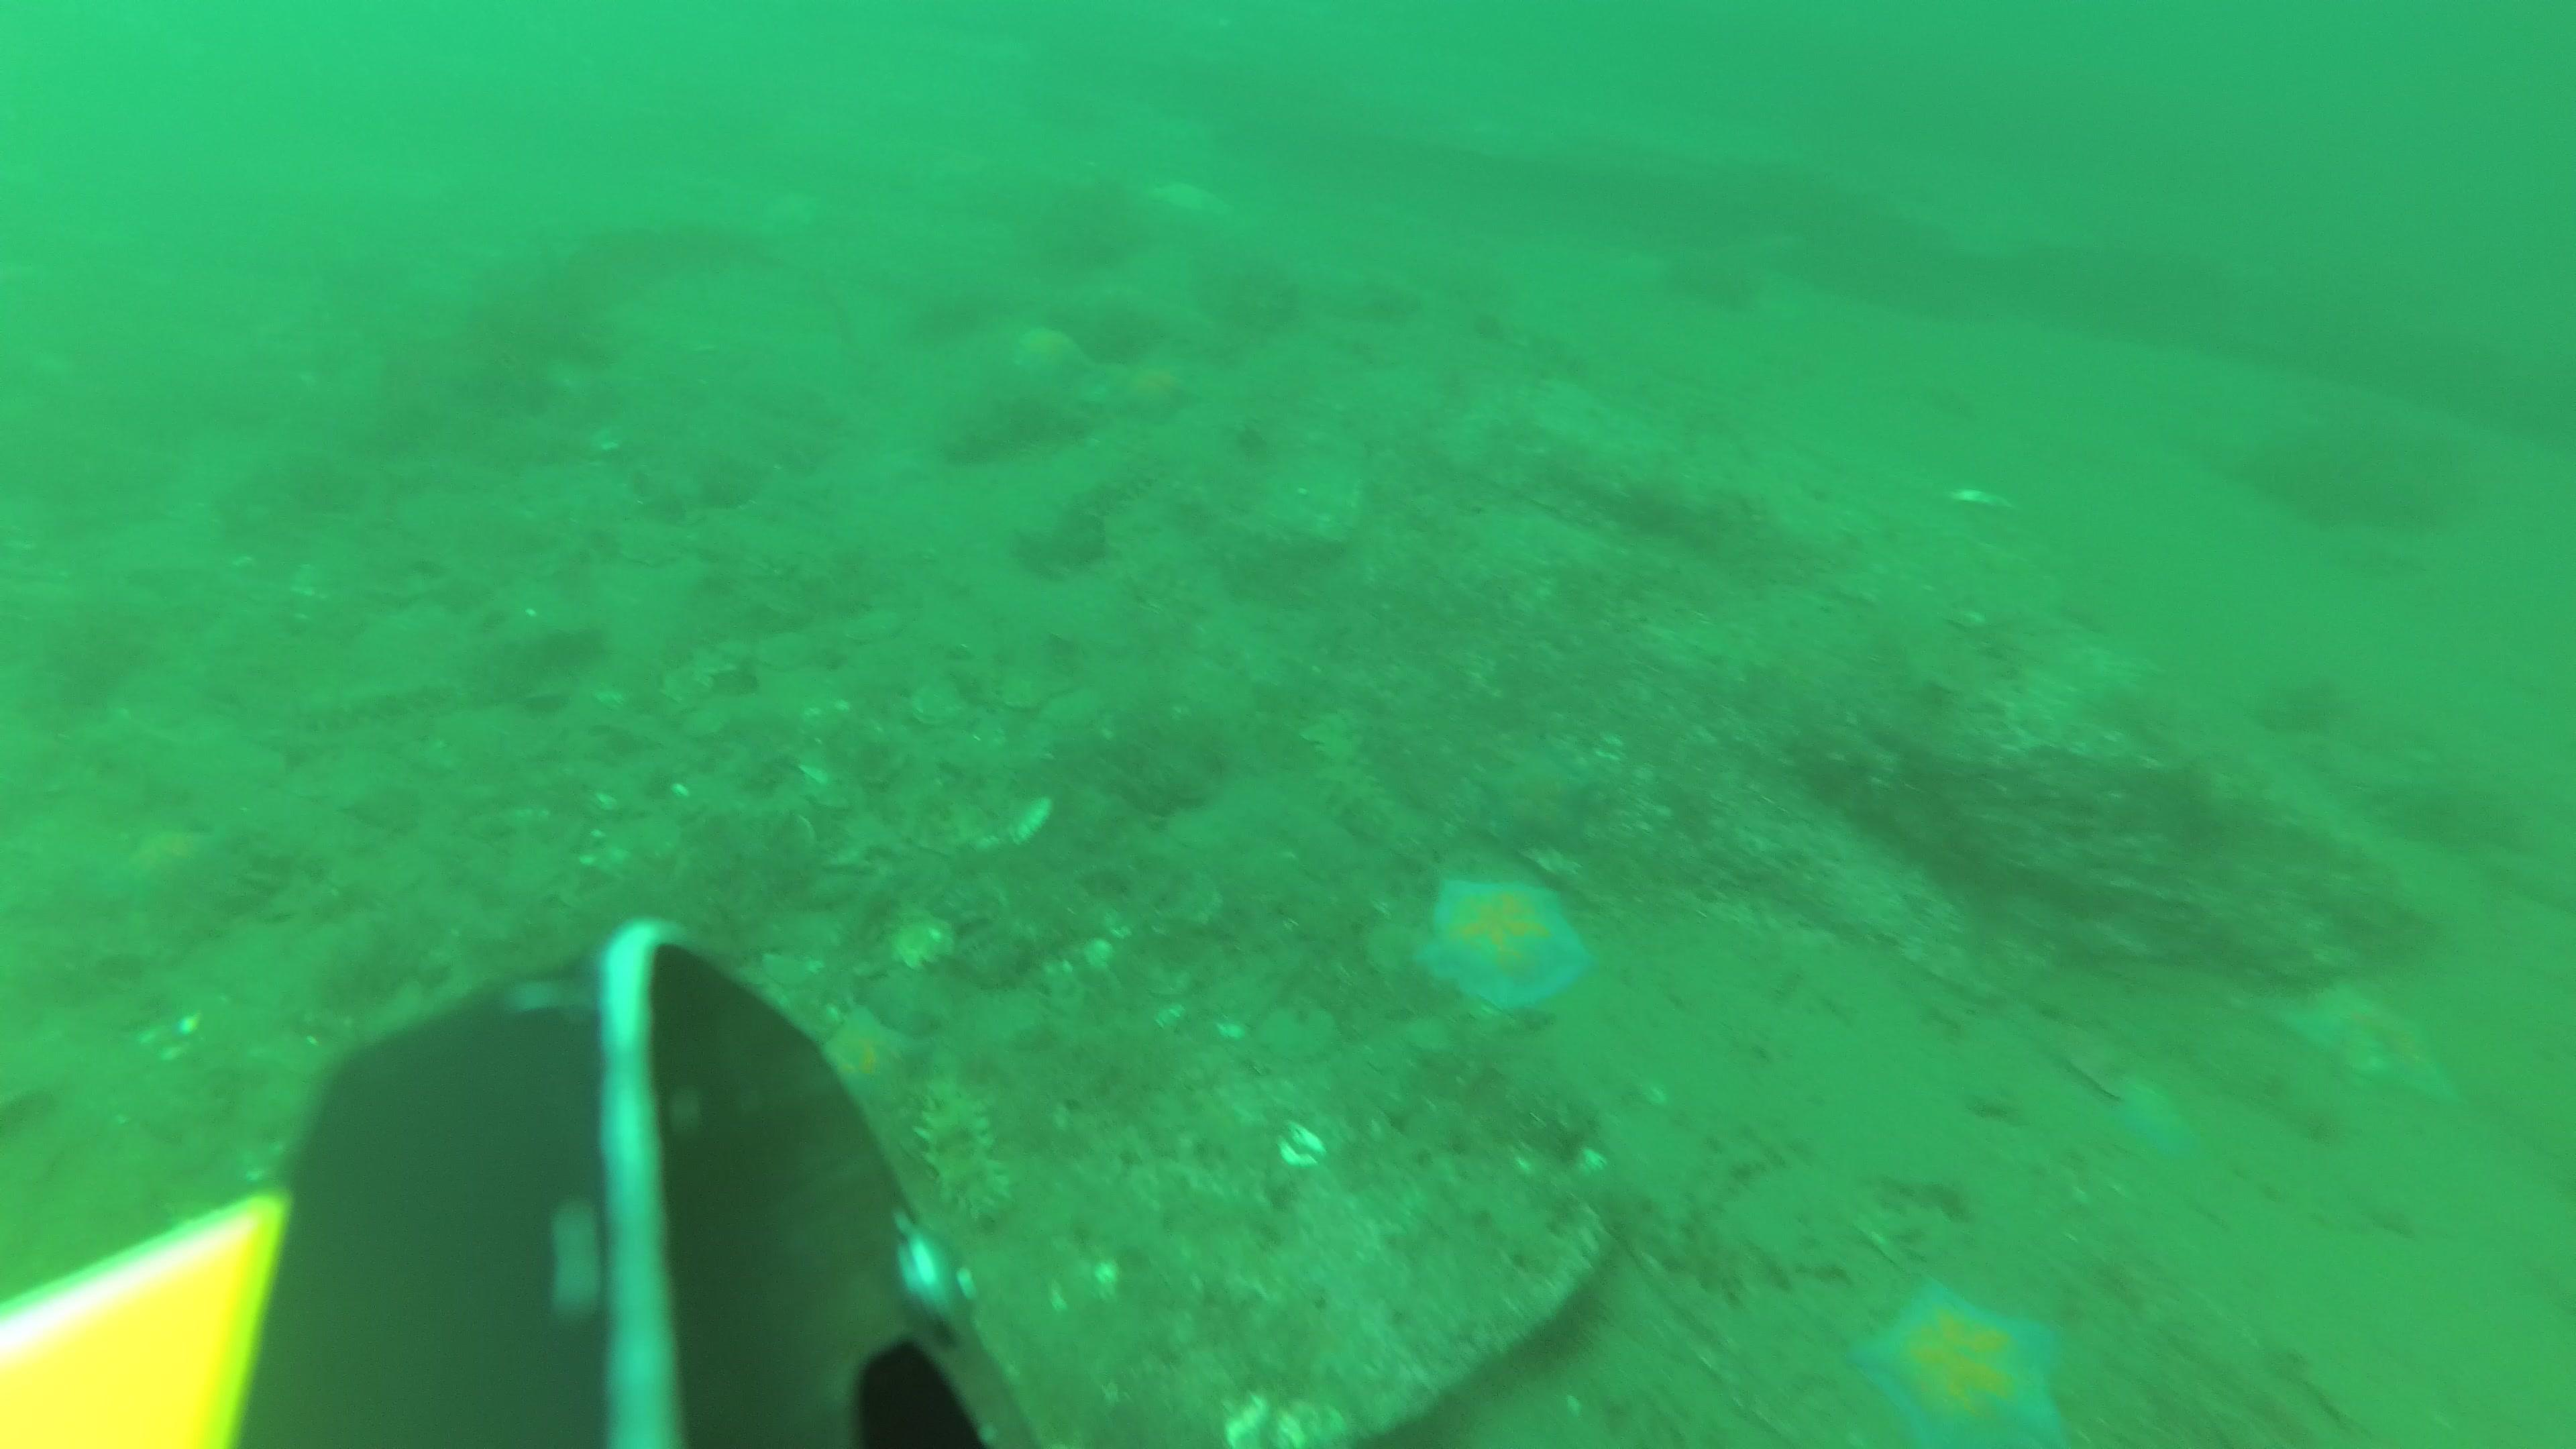holothurian: (1304, 706, 1433, 867), (916, 1070, 1016, 1228), (297, 672, 453, 729)
scallop: (908, 681, 966, 731)
starfish: (1852, 1272, 2074, 1449), (1414, 876, 1592, 1021), (2284, 982, 2459, 1113), (1474, 743, 1599, 858), (812, 1003, 924, 1108), (115, 830, 230, 913), (2116, 1074, 2192, 1157), (1010, 324, 1097, 395), (1122, 366, 1196, 419)
